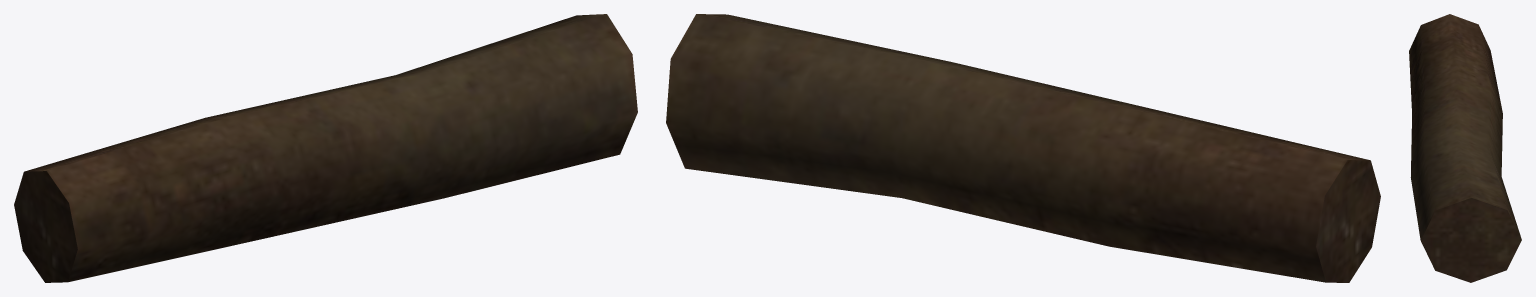
Rendered from WoodRoundLog_03.FBX.
The picture shows the model from 3 angles, left to right: view 1: azimuth 30°, elevation 25°; view 2: azimuth 150°, elevation 25°; view 3: azimuth 270°, elevation 25°; orthographic projection. The views are drawn at different scales.
Parts seen in each view (by area): view 1: WoodRoundLog_03; view 2: WoodRoundLog_03; view 3: WoodRoundLog_03.
Part boxes in pixels (x1,y1,x2,y2): WoodRoundLog_03: [14, 14, 637, 282]; WoodRoundLog_03: [666, 14, 1380, 282]; WoodRoundLog_03: [1409, 14, 1521, 282].
Bounding box in the file's own units: 87.48 × 19.82 × 22.29.
